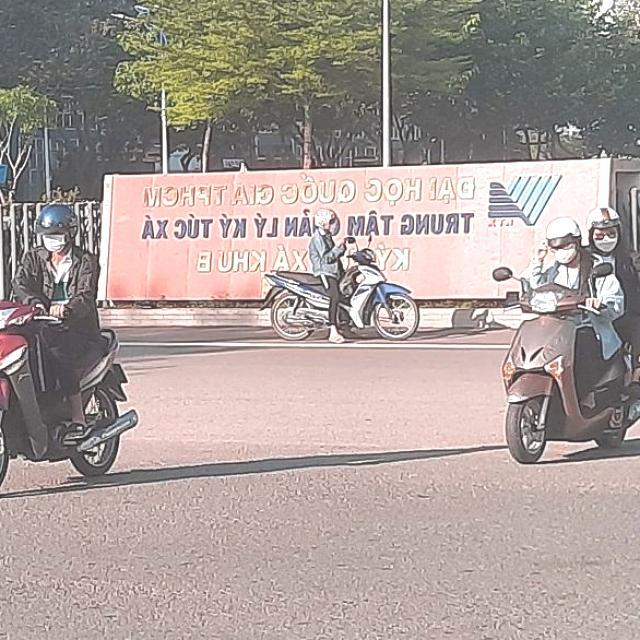Helmet: (34, 202, 78, 250), (546, 215, 584, 268), (586, 206, 622, 252), (314, 206, 339, 237)
